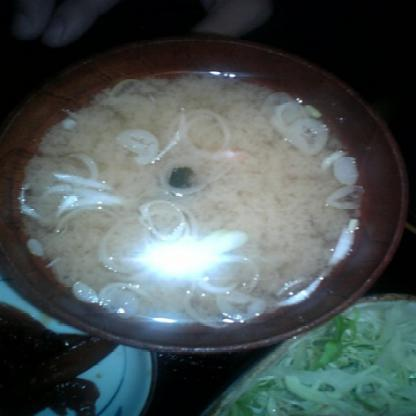miso soup: (21, 70, 360, 334)
